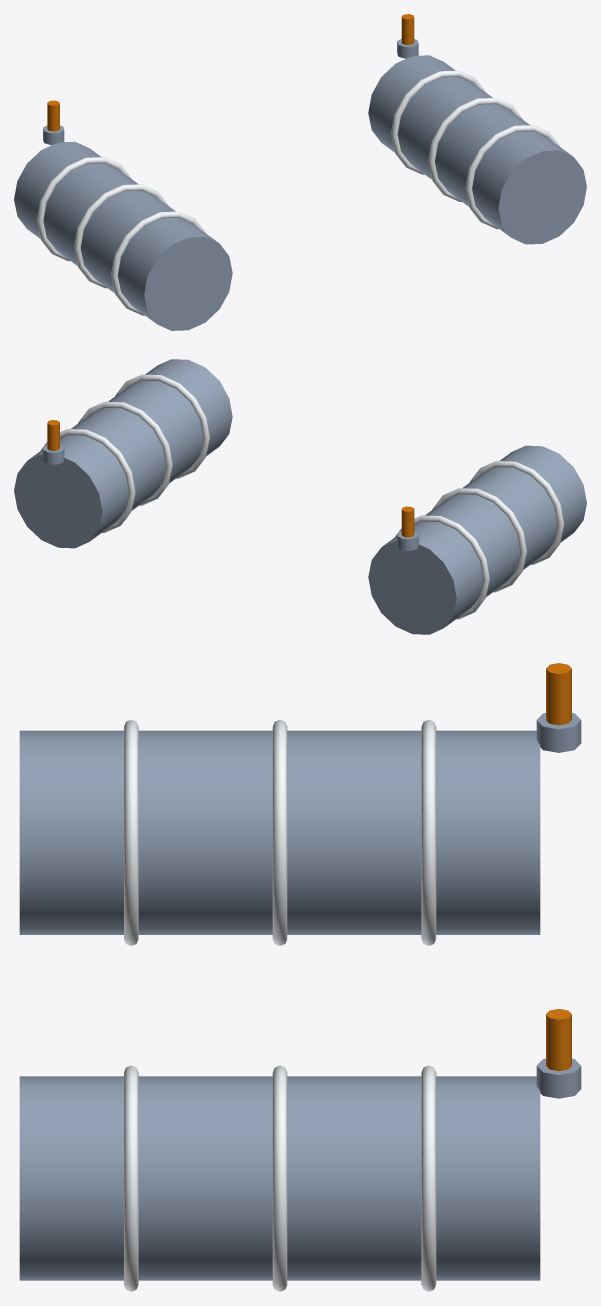
The model's file is exhaust_resonators_o2.glb.
3 renders of one model, top to bottom at view 1: azimuth 30°, elevation 25°; view 2: azimuth 150°, elevation 25°; view 3: azimuth 270°, elevation 25°, orthographic. The views are drawn at different scales.
Parts seen in each view (by area): view 1: Exhaust_Resonators_O2_Sensors_Assembly; view 2: Exhaust_Resonators_O2_Sensors_Assembly; view 3: Exhaust_Resonators_O2_Sensors_Assembly.
Part boxes in pixels (x1,y1,x2,y2): Exhaust_Resonators_O2_Sensors_Assembly: (14,14,586,330); Exhaust_Resonators_O2_Sensors_Assembly: (14,359,586,634); Exhaust_Resonators_O2_Sensors_Assembly: (19,663,581,1291).
Size of the model in its own units: 0.562 by 0.1585 by 0.302.
